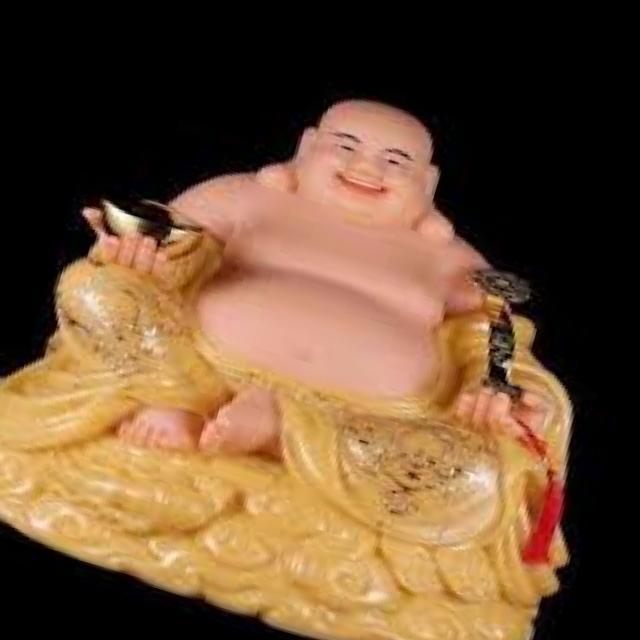Smiling Buddha: (16, 20, 598, 538)
